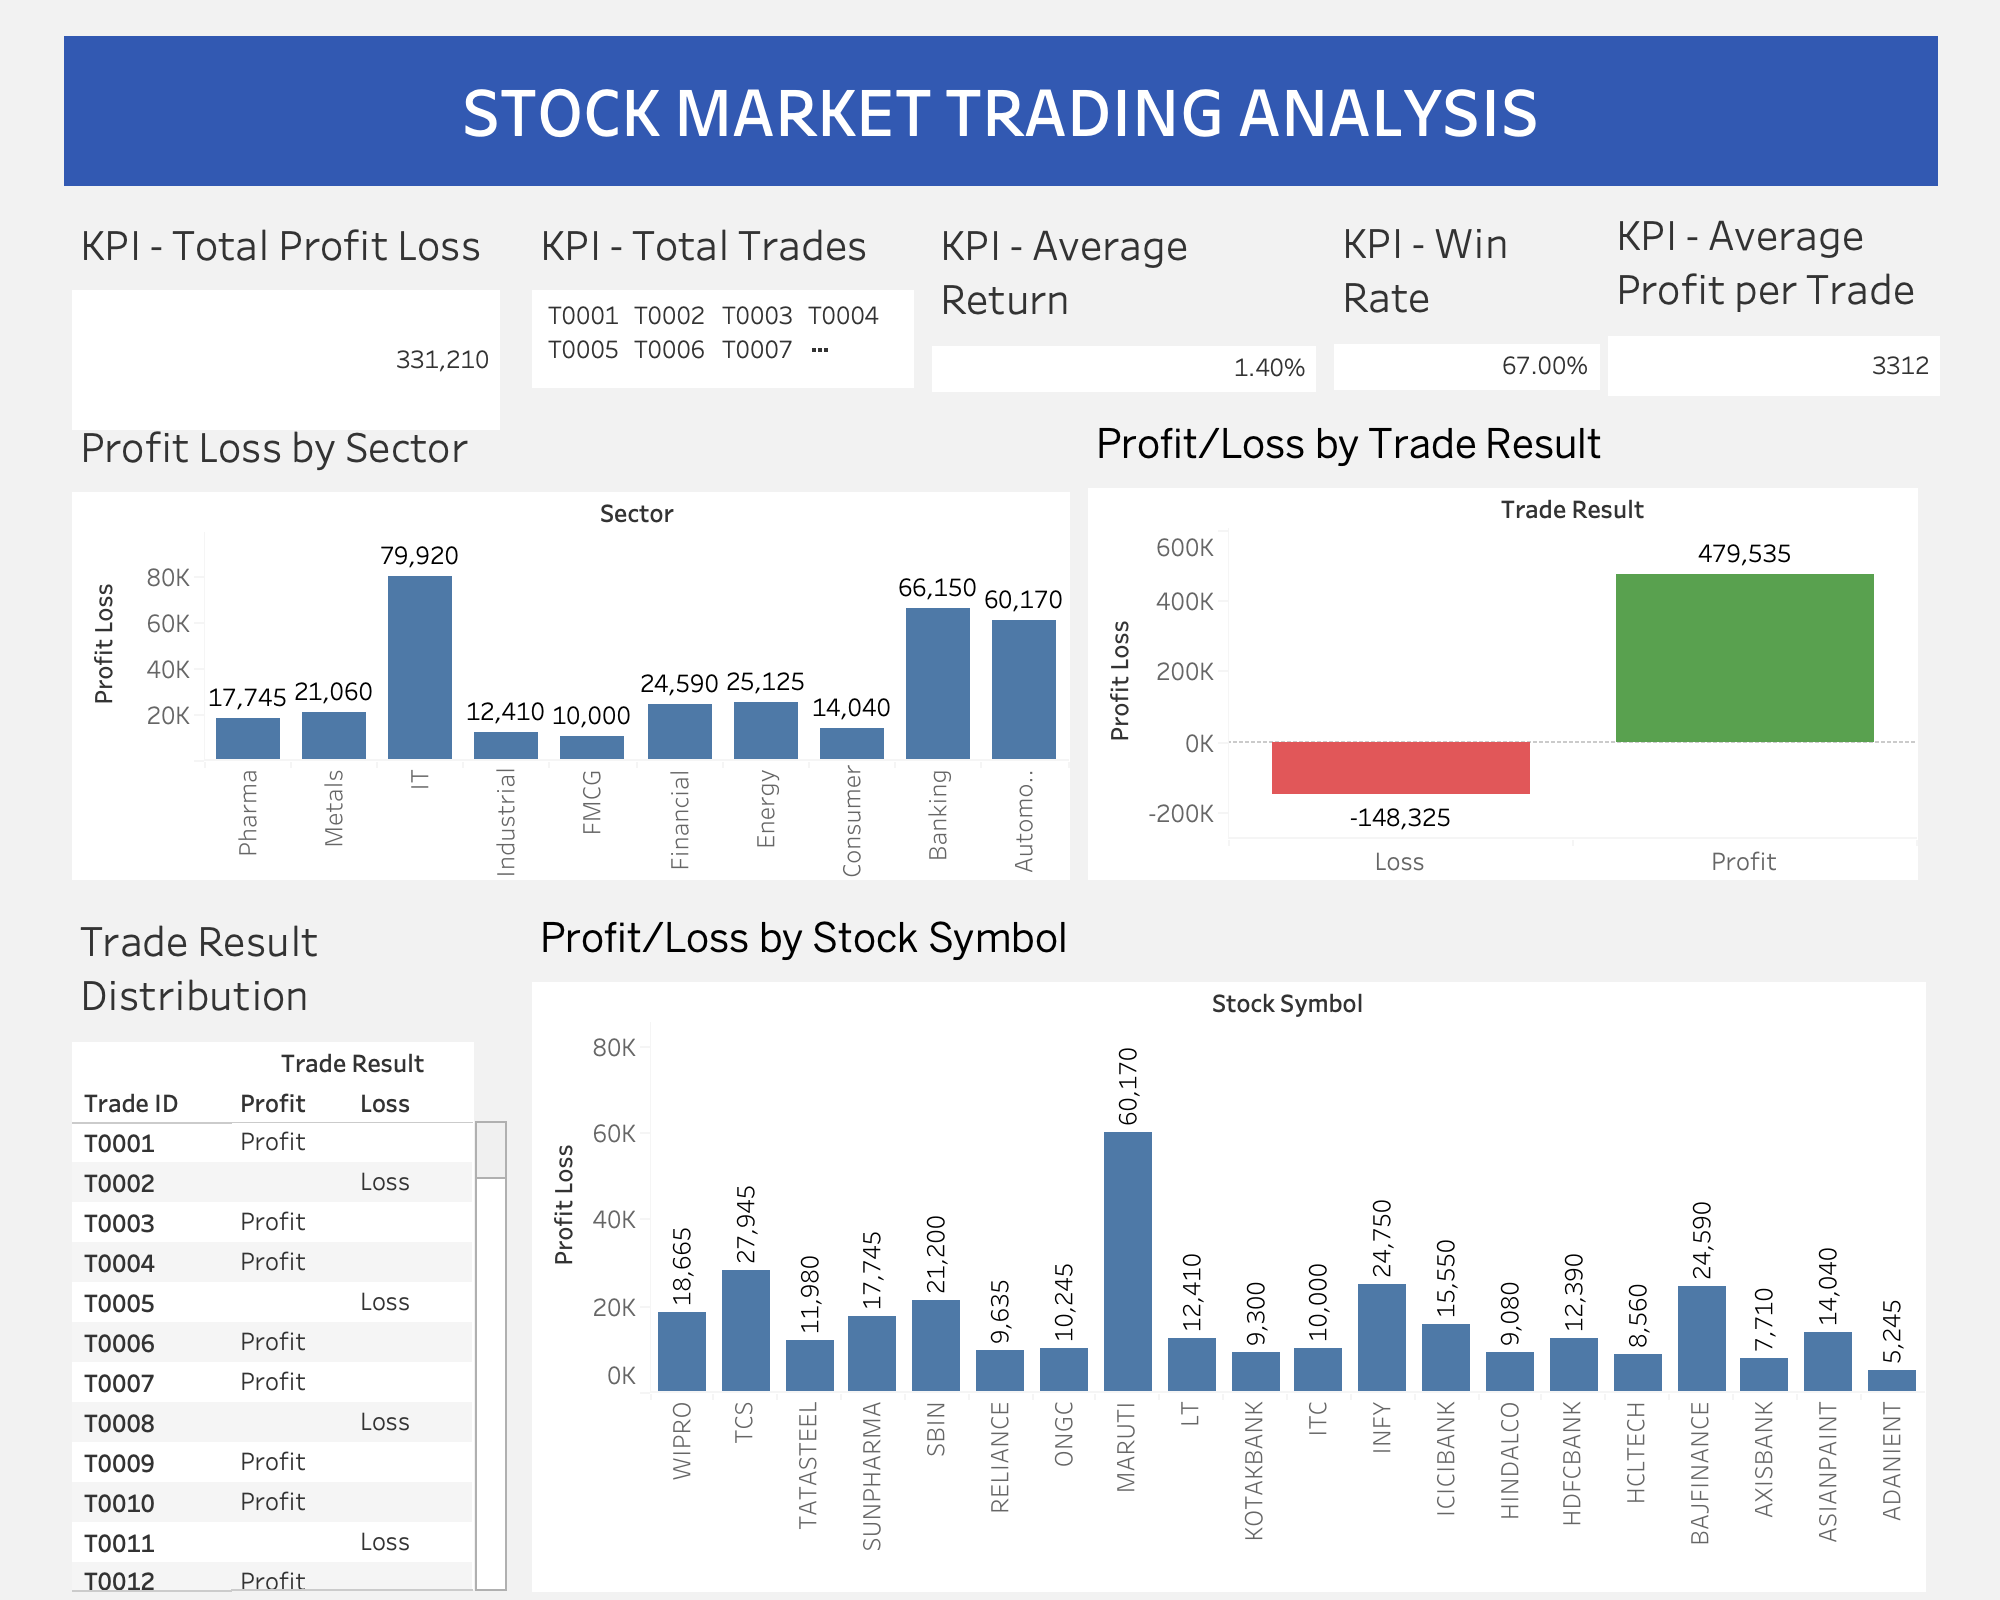

What the dashboard file says about the page in this screenshot:
{"tool":"tableau","page":{"name":"Stock Market Trading Analysis Dashboard","canvas":[1000,800],"ordinal":0},"visuals":[{"type":"text","box":[32,18,937,75]},{"type":"worksheet","title":"KPI - Win Rate","mark":"Automatic","box":[663,97,140,101]},{"type":"worksheet","title":"KPI - Average Profit per Trade","mark":"Automatic","box":[804,97,165,100]},{"type":"worksheet","title":"KPI - Total Profit Loss","mark":"Automatic","box":[32,98,221,120]},{"type":"worksheet","title":"KPI - Total Trades","mark":"Automatic","box":[262,98,198,100]},{"type":"worksheet","title":"KPI - Average Return","mark":"Automatic","box":[462,98,199,101]},{"type":"worksheet","title":"Profit Loss by Sector","mark":"Automatic","rows":["Profit_Loss"],"cols":["Sector"],"box":[36,203,498,237]},{"type":"worksheet","title":"Profit Loss by Result","mark":"Automatic","rows":["Profit_Loss"],"cols":["Trade_Result"],"box":[544,203,414,237]},{"type":"worksheet","title":"Trade Result Distribution","mark":"Automatic","rows":["Trade_ID"],"cols":["Trade_Result"],"box":[36,450,224,346]},{"type":"worksheet","title":"Profit Loss by Stock","mark":"Automatic","rows":["Profit_Loss"],"cols":["Stock_Symbol"],"box":[266,450,696,346]}]}

Visuals, with their boxes in screenshot pixels (x1, y1, x2, y2), scaled from the page's 1000x800 canvas onto the 2000x1600 screenshot:
text: 64 36 1938 186
"KPI - Win Rate" worksheet: 1326 194 1606 396
"KPI - Average Profit per Trade" worksheet: 1608 194 1938 394
"KPI - Total Profit Loss" worksheet: 64 196 506 436
"KPI - Total Trades" worksheet: 524 196 920 396
"KPI - Average Return" worksheet: 924 196 1322 398
"Profit Loss by Sector" worksheet: 72 406 1068 880
"Profit Loss by Result" worksheet: 1088 406 1916 880
"Trade Result Distribution" worksheet: 72 900 520 1592
"Profit Loss by Stock" worksheet: 532 900 1924 1592
